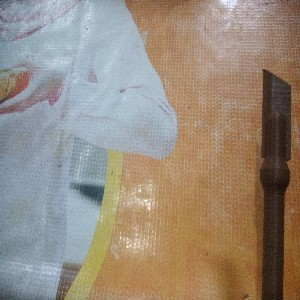cutter: (258, 67, 293, 300)
